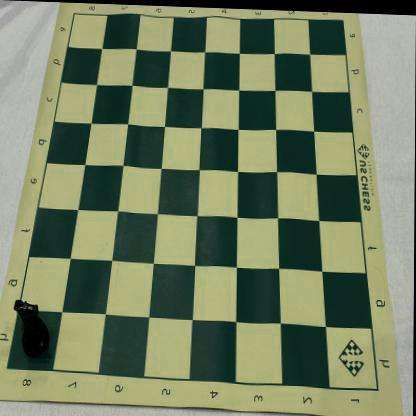black-knight: (14, 299, 50, 358)
